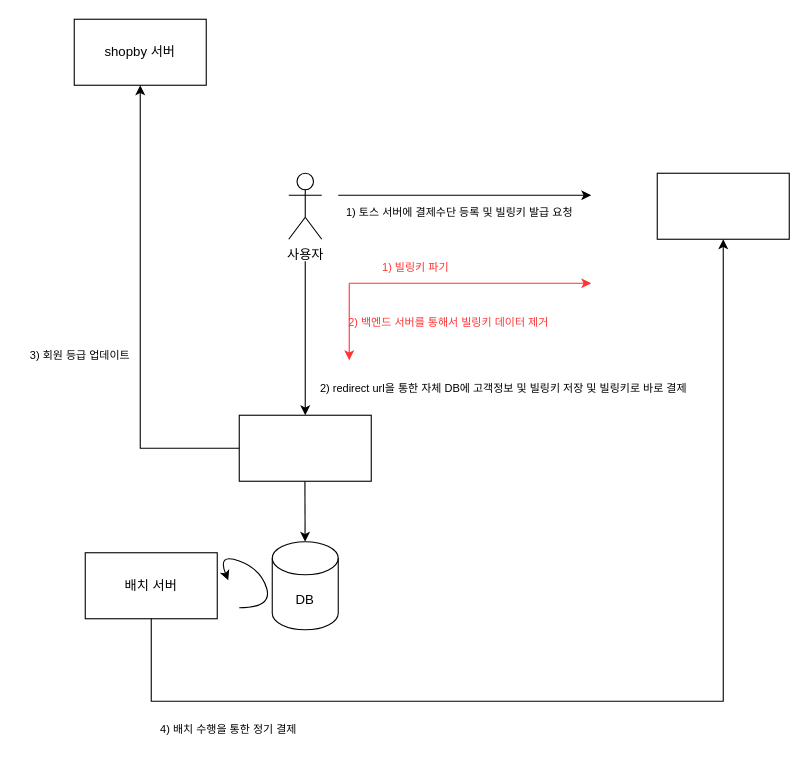
Some shapes in this 809 by 765 pixel diagram are drawn without their labels. The shapes that lost their labels are listed below. From the top down, each one's centre as x and y in pixels, then its label:
the point at 722,205: 토스 서버
the point at 304,447: 백엔드 서버
